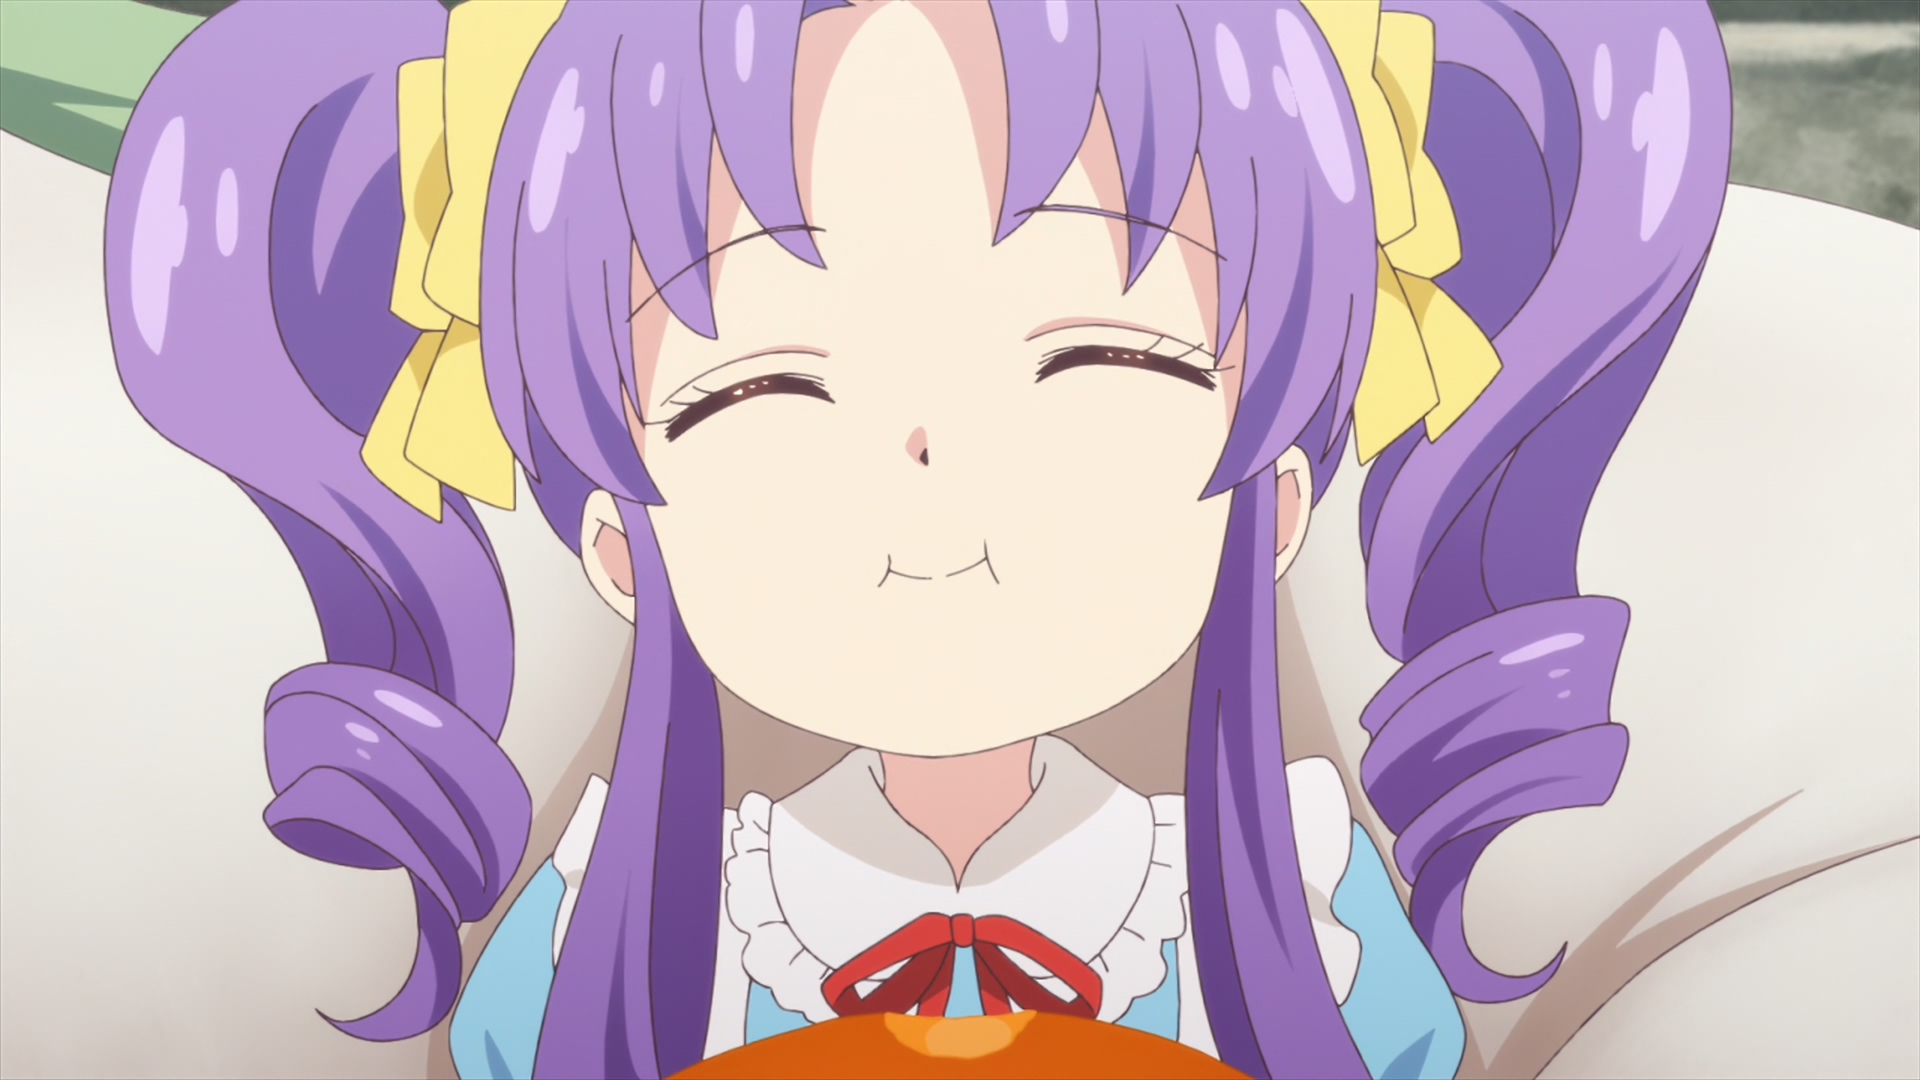阿菊: (102, 1, 1733, 1080)
